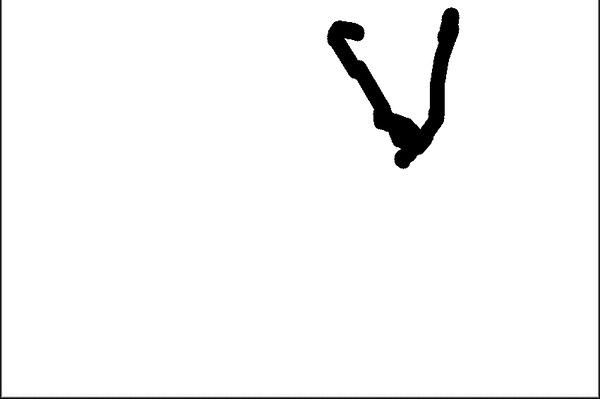V: (316, 9, 469, 168)
